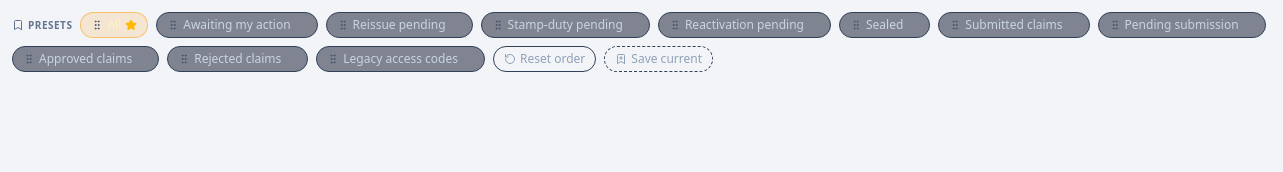
Scenario: CaseFilterPresets – pin-limit tooltip › undo button is still visible at 4999 ms (just before the 5-second window closes)
Click the button with test id "preset-reset-layout" at point(545, 59), box [493,46,596,72]
Wait 4999 ms
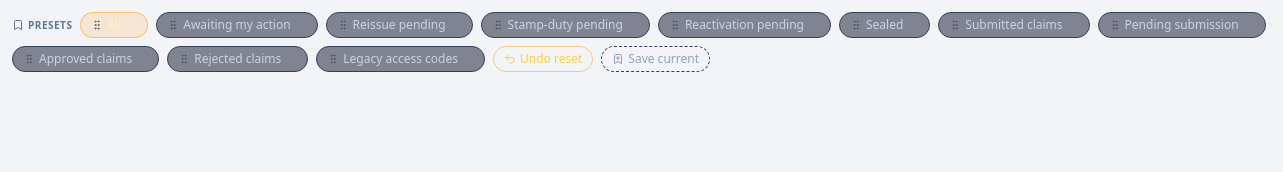
Check: the button with test id "preset-undo-reset" is shown, box [493,46,593,72]
